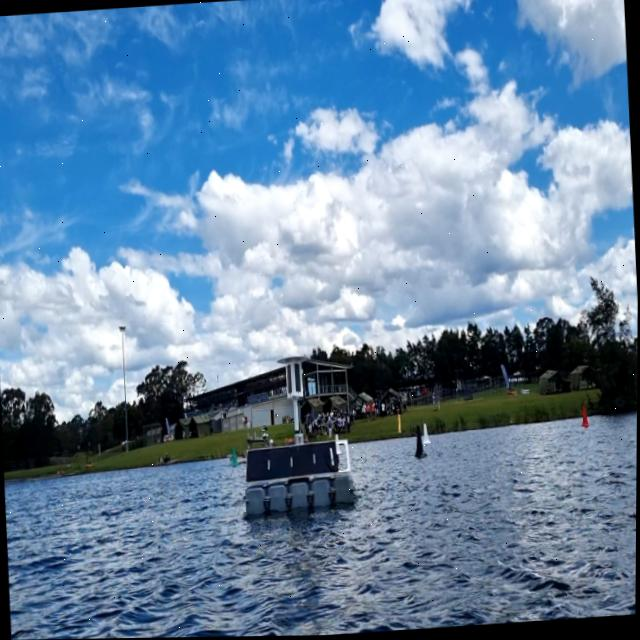led: (287, 363, 304, 396), (294, 362, 303, 396), (287, 365, 294, 397)
